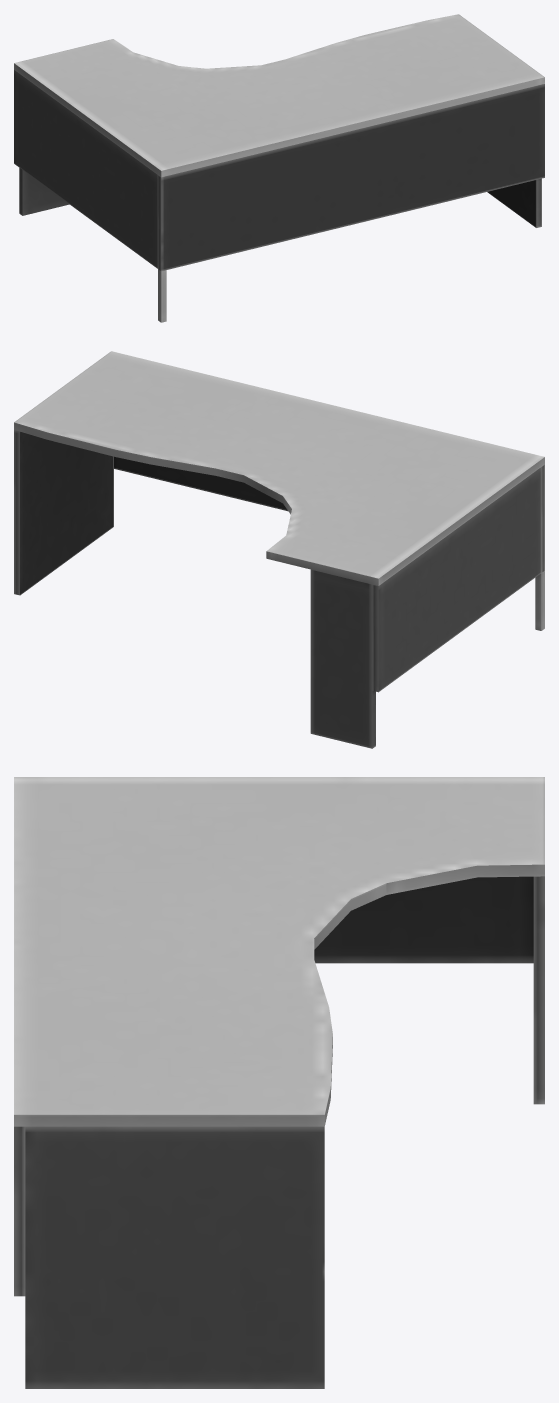
Rendered from Desk_office.gltf.
3 renders of one model, top to bottom at view 1: azimuth 30°, elevation 25°; view 2: azimuth 150°, elevation 25°; view 3: azimuth 270°, elevation 25°, orthographic. The views are drawn at different scales.
Parts seen in each view (by area): view 1: officedesk; view 2: officedesk; view 3: officedesk.
Part boxes in pixels (left/top/right/bottom): officedesk: left=14, top=14, right=544, bottom=322; officedesk: left=14, top=351, right=544, bottom=748; officedesk: left=14, top=777, right=544, bottom=1388.
Bounding box in the file's own units: 18 × 6.81 × 11.96.
Materials: 1 (1 with a texture image).
